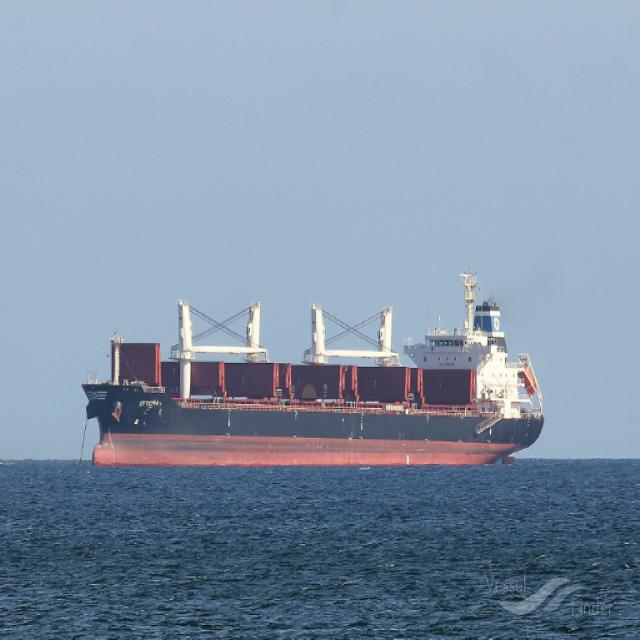OCR: (134, 395, 162, 413)
